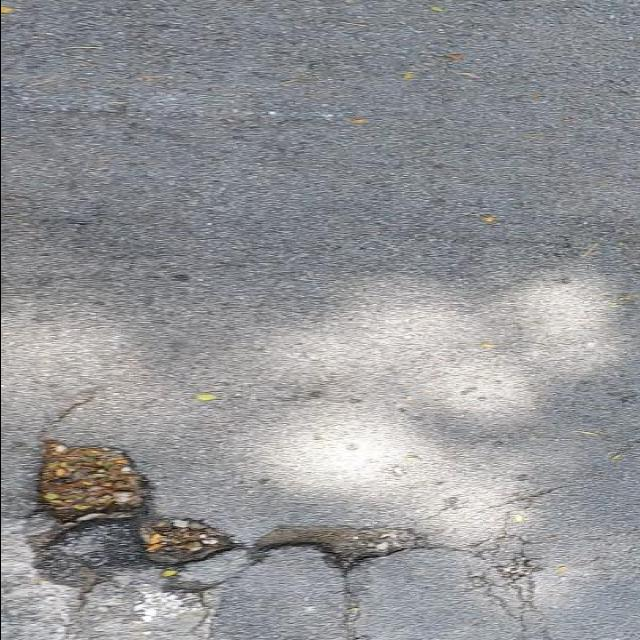potholes: (8, 398, 600, 622)
